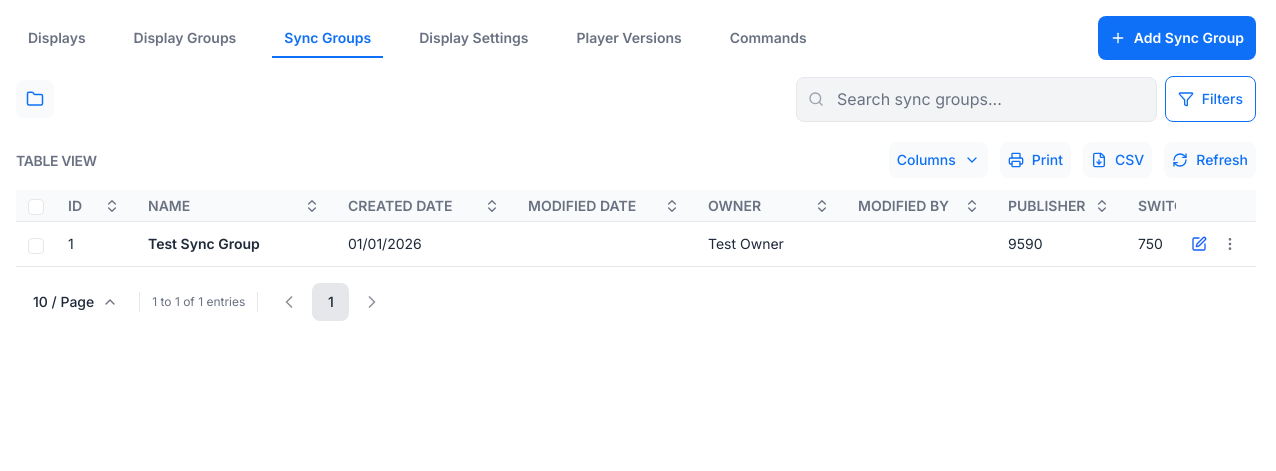
Scenario: Sync Groups page - filters › clicking Reset clears all filter inputs
This screenshot has width=1276, height=471.
Step 1. Click the button "Filters" → (1210, 99), box [1165,76,1256,122]
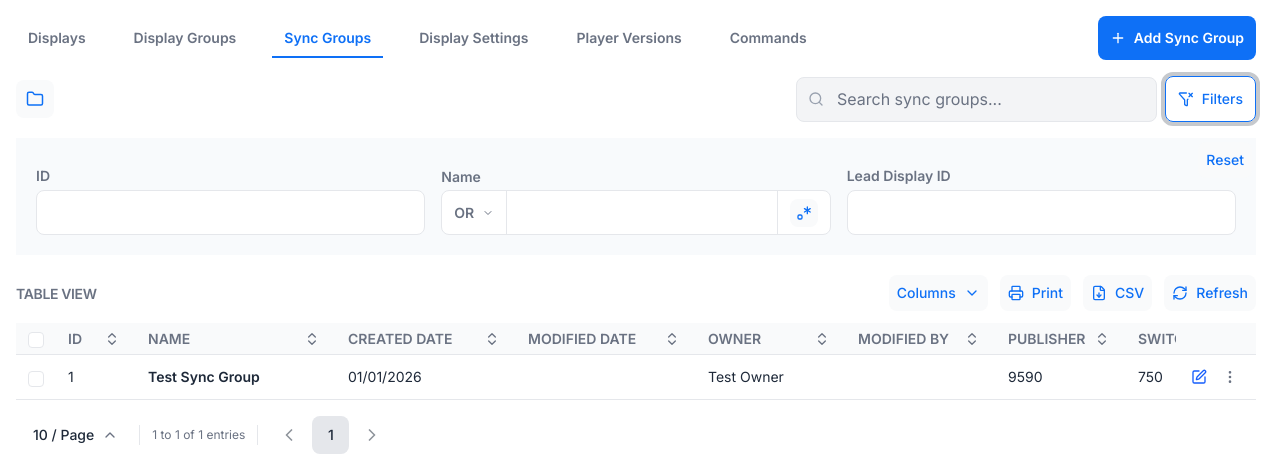
Step 2. Type "42" into the number field below "Lead Display ID" → (1041, 212), box [847,190,1236,235]
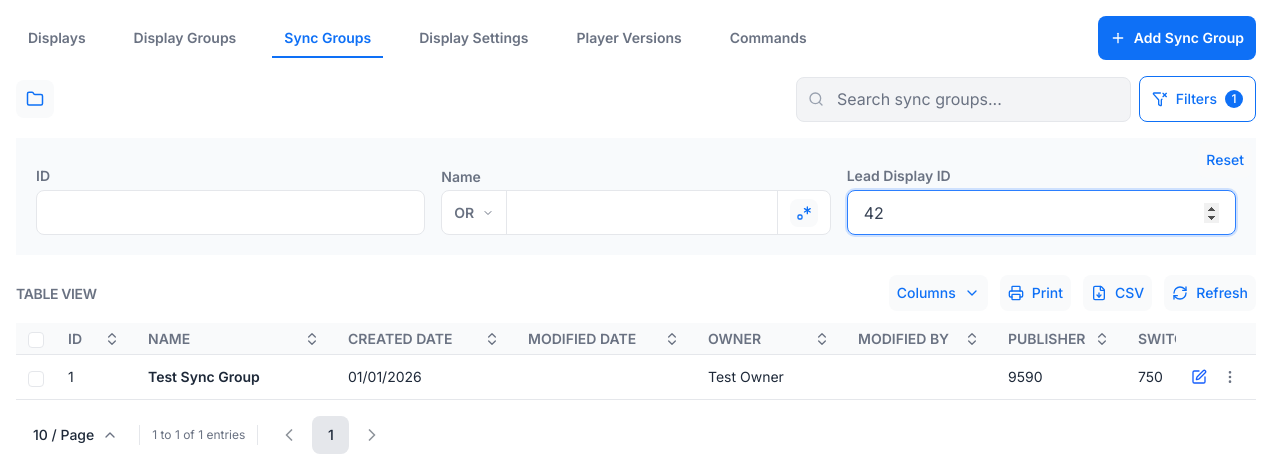
Step 3. Click the button "Reset" → (1225, 160), box [1198,142,1252,178]
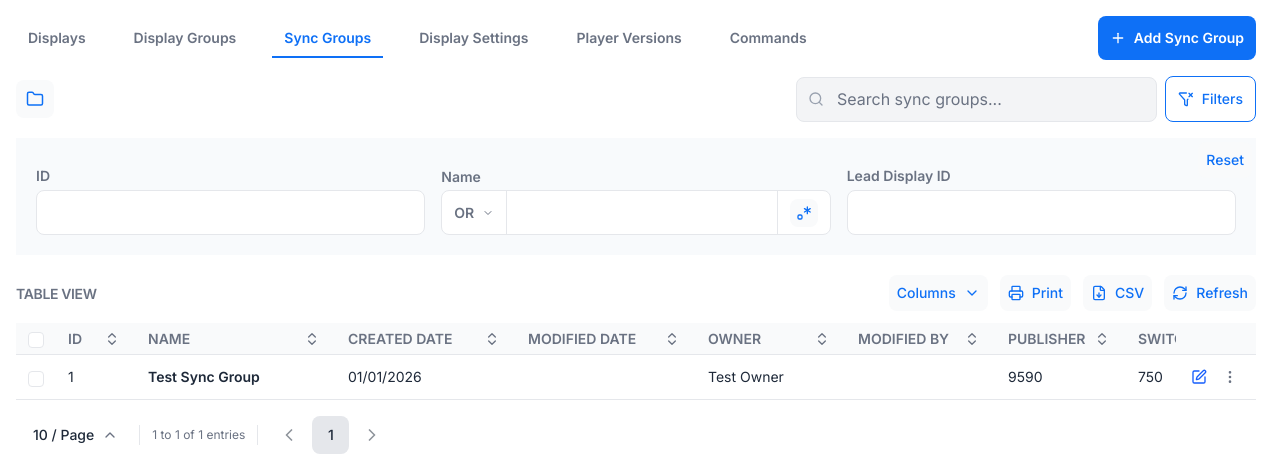
Result: the number field below "Lead Display ID" is empty at [847,190,1236,235]
